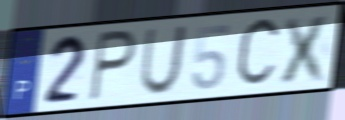2: (39, 31, 91, 109)
5: (190, 21, 232, 92)
C: (233, 13, 284, 93)
P: (86, 27, 139, 104)
U: (137, 23, 190, 98)
X: (276, 11, 335, 87)
